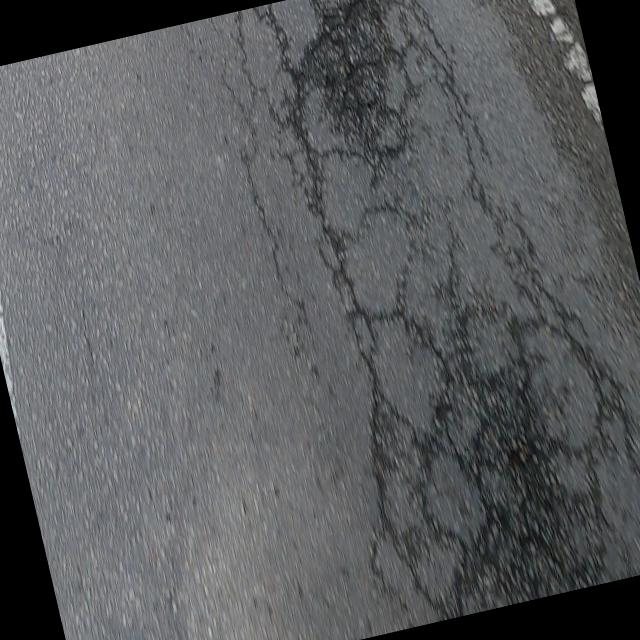Retak-Buaya: (236, 0, 640, 619)
